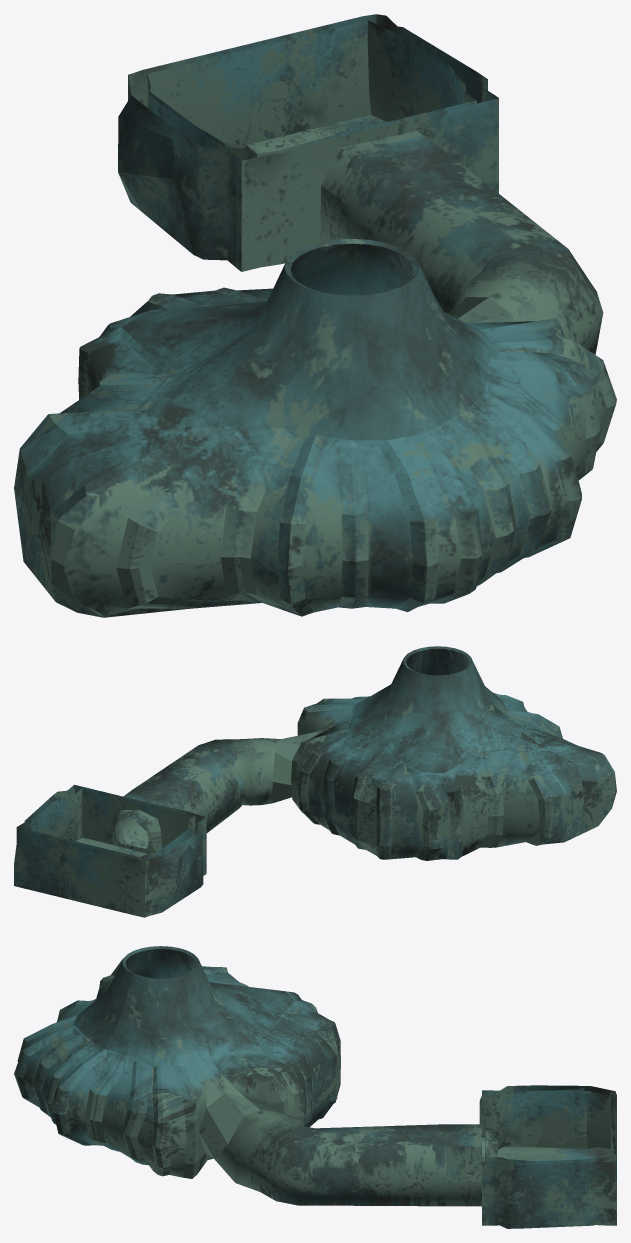
Rendered from Envro_final.FBX.
3 renders of one model, top to bottom at view 1: azimuth 30°, elevation 25°; view 2: azimuth 150°, elevation 25°; view 3: azimuth 270°, elevation 25°, orthographic. The views are drawn at different scales.
Visible parts, largest first — view 1: Torus002; view 2: Torus002; view 3: Torus002.
Part boxes in pixels (x1=…): Torus002: x1=14, y1=14, x2=616, y2=617; Torus002: x1=14, y1=646, x2=616, y2=917; Torus002: x1=14, y1=946, x2=616, y2=1228.
Bounding box in the file's own units: 785 × 273 × 940.
Materials: 1 (1 with a texture image).
